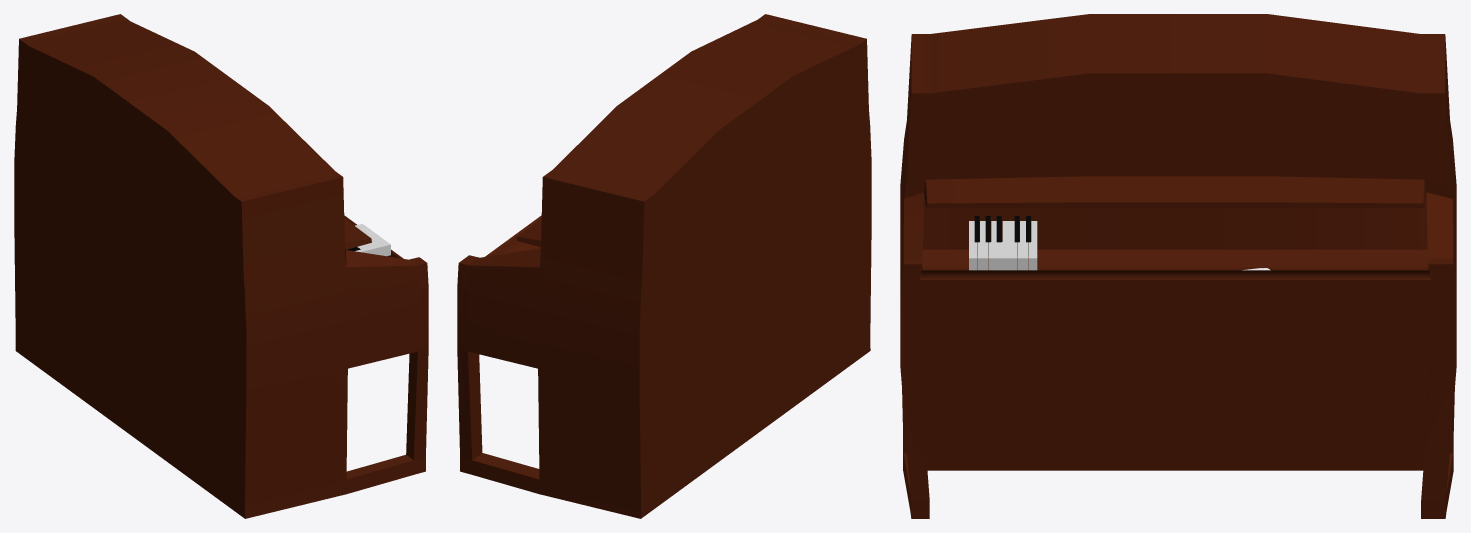
File: piano.fbx
3 renders of one model, left to right at view 1: azimuth 30°, elevation 25°; view 2: azimuth 150°, elevation 25°; view 3: azimuth 270°, elevation 25°, orthographic. The views are drawn at different scales.
Parts seen in each view (by area): view 1: piano; view 2: piano; view 3: piano.
Boxes of the visible parts, x1=… form: piano: x1=14, y1=14, x2=428, y2=518; piano: x1=457, y1=14, x2=871, y2=518; piano: x1=900, y1=14, x2=1456, y2=518.
Bounding box in the file's own units: 4.09 × 7.03 × 8.92.
3 materials, 1 textured.
